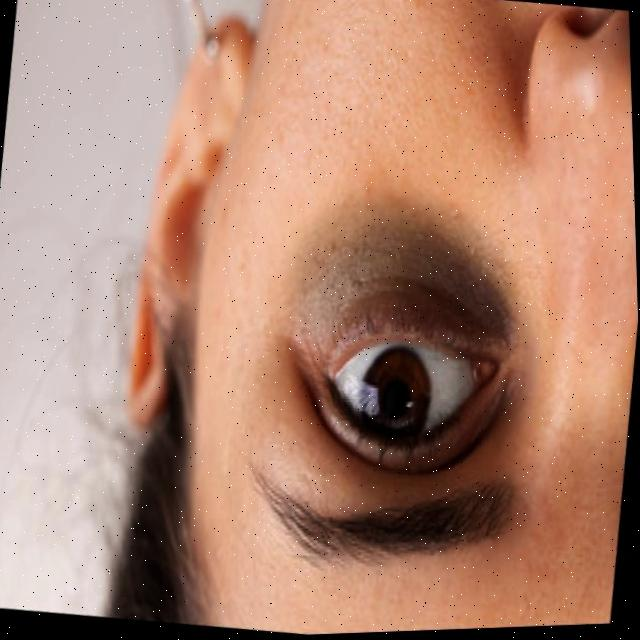puffy_eyes: (314, 230, 513, 359)
